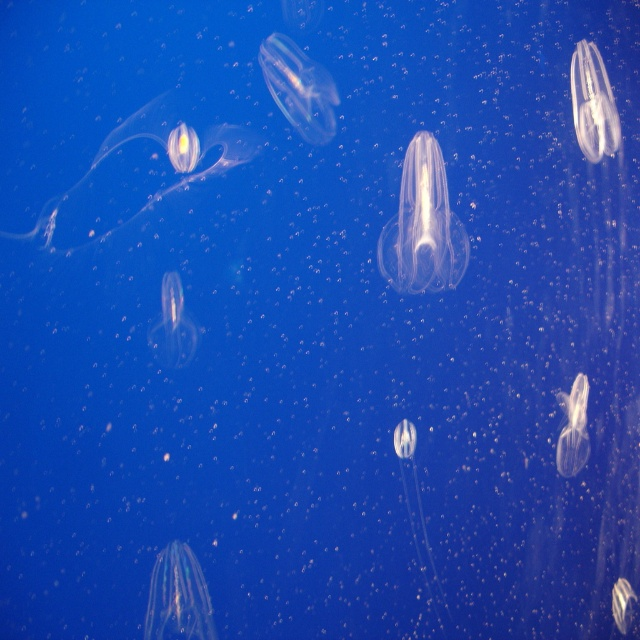Jellyfish: (10, 115, 233, 258), (376, 123, 469, 303), (393, 421, 452, 635), (258, 32, 341, 149), (140, 538, 217, 639), (569, 41, 618, 164), (146, 270, 199, 377), (553, 370, 586, 488), (612, 577, 640, 639)
